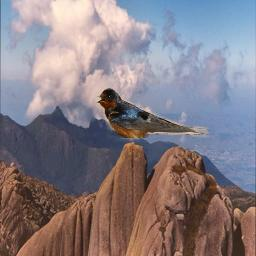Swallow: (96, 87, 209, 138)
